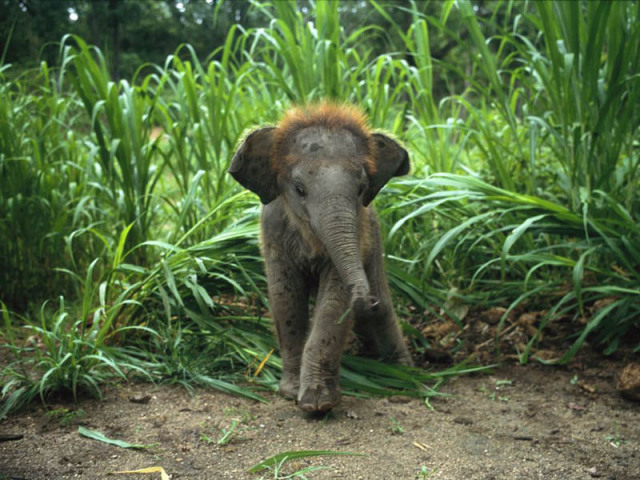elephant: (222, 96, 433, 417)
